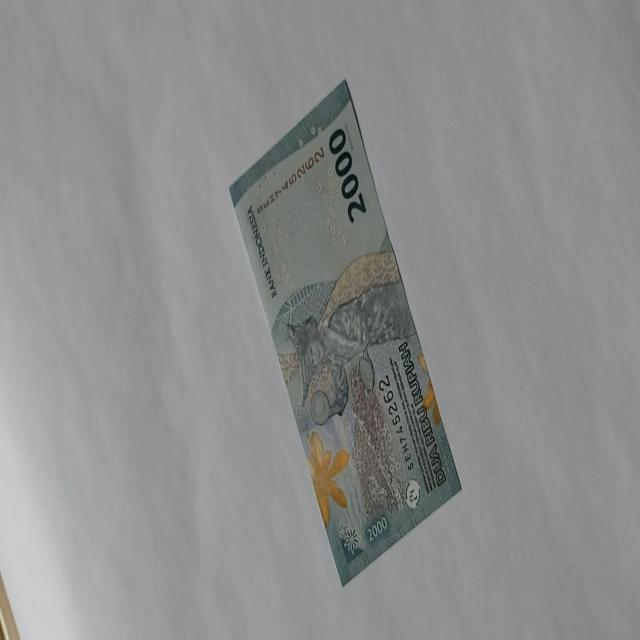dua ribu rupiah: (228, 77, 462, 586), (282, 249, 414, 426)
